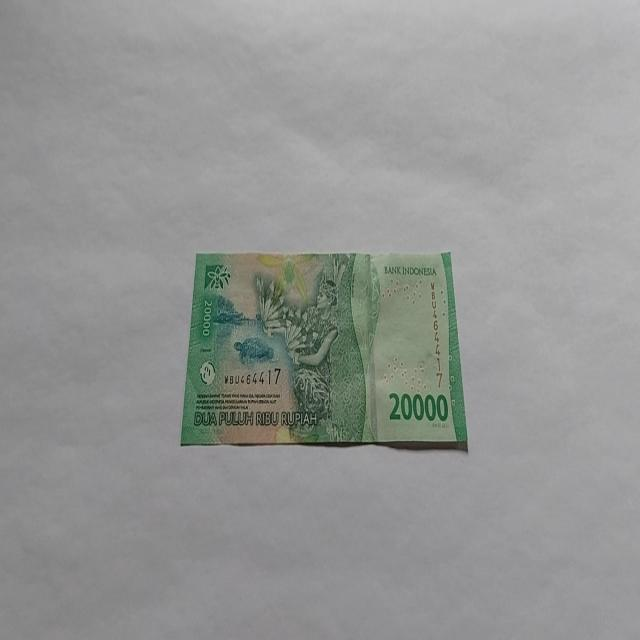dua puluh ribu rupiah: (179, 248, 469, 452)
